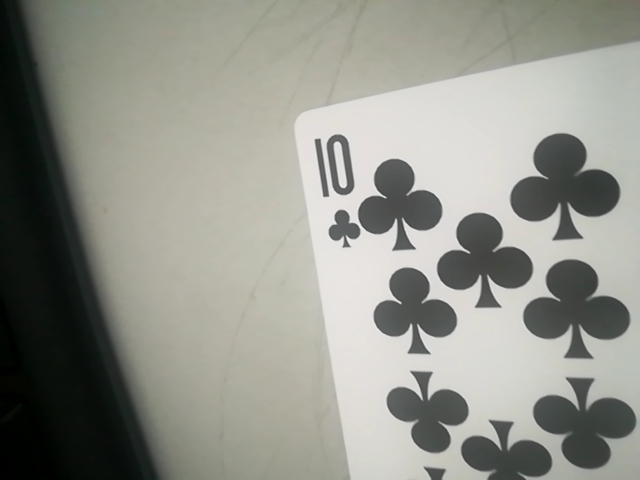mh 10: (289, 15, 640, 480)
